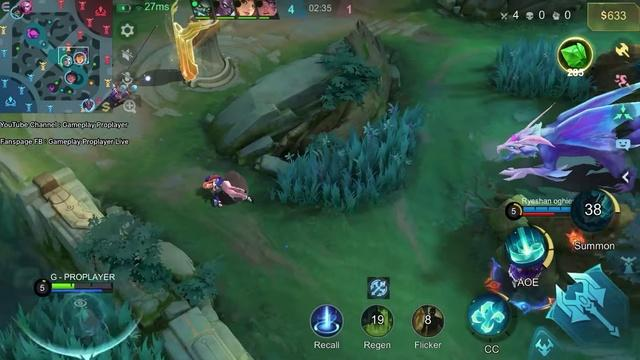Adc_Aliado: (81, 99, 95, 111)
Arbusto: (272, 97, 433, 218), (0, 282, 162, 360), (489, 47, 588, 98)
Buff_blue: (488, 84, 640, 191)
EXP_Lane: (0, 0, 13, 16)
Exp_Aliado: (10, 6, 24, 21)
Exp_Enemigo: (18, 1, 33, 15)
Gold_Lane: (101, 98, 113, 116)
Guinever: (493, 266, 550, 291)
HP_Heroe_Principal: (54, 281, 115, 289)
Jungla_Aliado: (73, 51, 85, 66)
Mid_Aliado: (60, 54, 73, 68)
Minimapa: (0, 0, 113, 112)
Roamer_Aliado: (62, 68, 79, 88)
Skill1: (465, 290, 513, 342)
Skill2: (504, 224, 544, 266)
Torre_Enemiga: (169, 7, 239, 91)
Tortuga_mapa: (24, 27, 41, 41)
